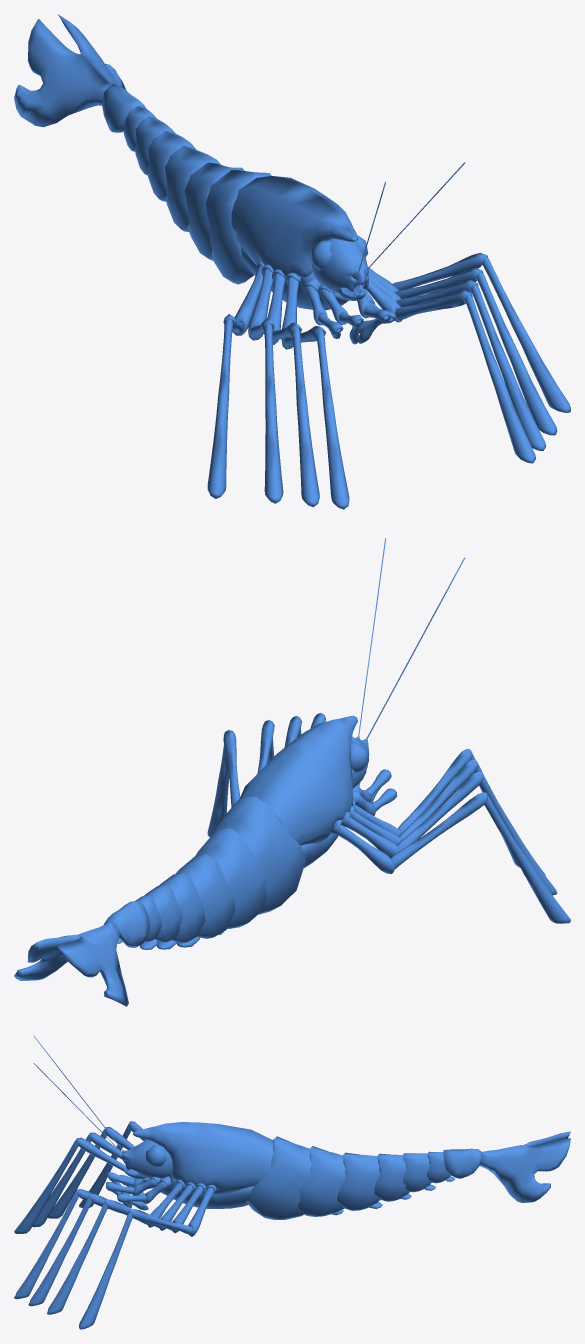
File: TESTING_ONLY_R_Cherry.fbx
The picture shows the model from 3 angles, top to bottom: view 1: azimuth 30°, elevation 25°; view 2: azimuth 150°, elevation 25°; view 3: azimuth 270°, elevation 25°; orthographic projection. The views are drawn at different scales.
Visible parts, largest first — view 1: Cherry; view 2: Cherry; view 3: Cherry.
Part boxes in pixels (x1=…): Cherry: x1=14, y1=14, x2=570, y2=509; Cherry: x1=14, y1=538, x2=570, y2=1006; Cherry: x1=14, y1=1036, x2=570, y2=1329.
Size of the model in its own units: 172 by 140 by 323.
